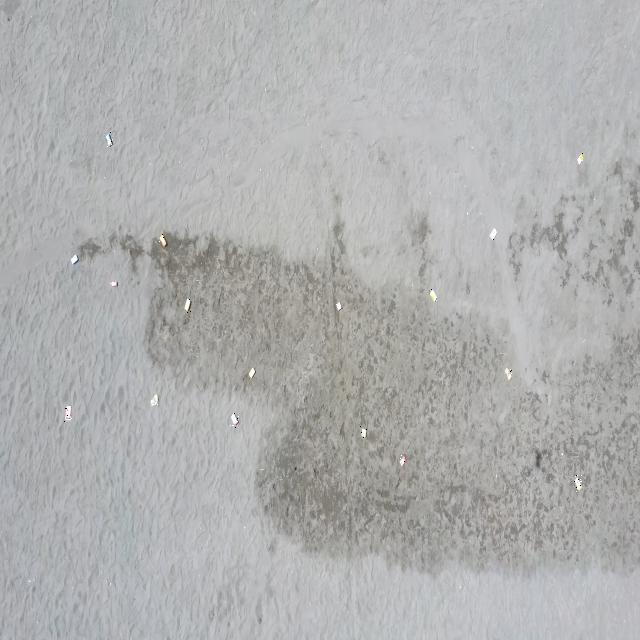Garbage: (573, 475, 582, 491), (230, 412, 238, 427), (158, 233, 166, 247), (150, 393, 158, 406), (504, 367, 512, 380), (64, 406, 71, 420), (104, 131, 111, 145), (183, 299, 190, 312), (576, 152, 584, 163), (428, 288, 435, 300), (399, 453, 406, 464), (489, 227, 495, 239), (247, 369, 255, 377), (71, 253, 77, 263), (360, 427, 366, 437), (335, 300, 340, 310), (110, 280, 116, 286), (467, 211, 468, 215)
